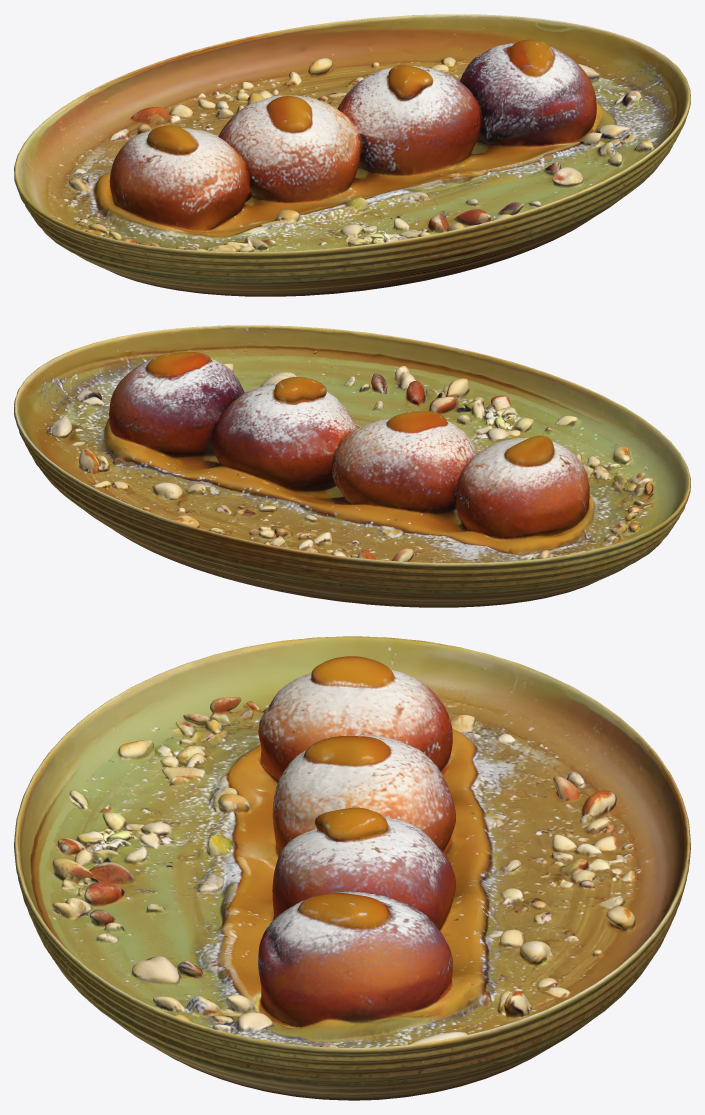
File: Cheesy-Green-Lasagne.glb
The picture shows the model from 3 angles, top to bottom: view 1: azimuth 30°, elevation 25°; view 2: azimuth 150°, elevation 25°; view 3: azimuth 270°, elevation 25°; orthographic projection. The views are drawn at different scales.
Visible parts, largest first — view 1: Mesh_0; view 2: Mesh_0; view 3: Mesh_0.
Part boxes in pixels (x1=…): Mesh_0: x1=14, y1=14, x2=690, y2=296; Mesh_0: x1=14, y1=325, x2=690, y2=607; Mesh_0: x1=14, y1=636, x2=690, y2=1100.
Size of the model in its own units: 0.2847 by 0.0511 by 0.1969.
1 material, 1 textured.
